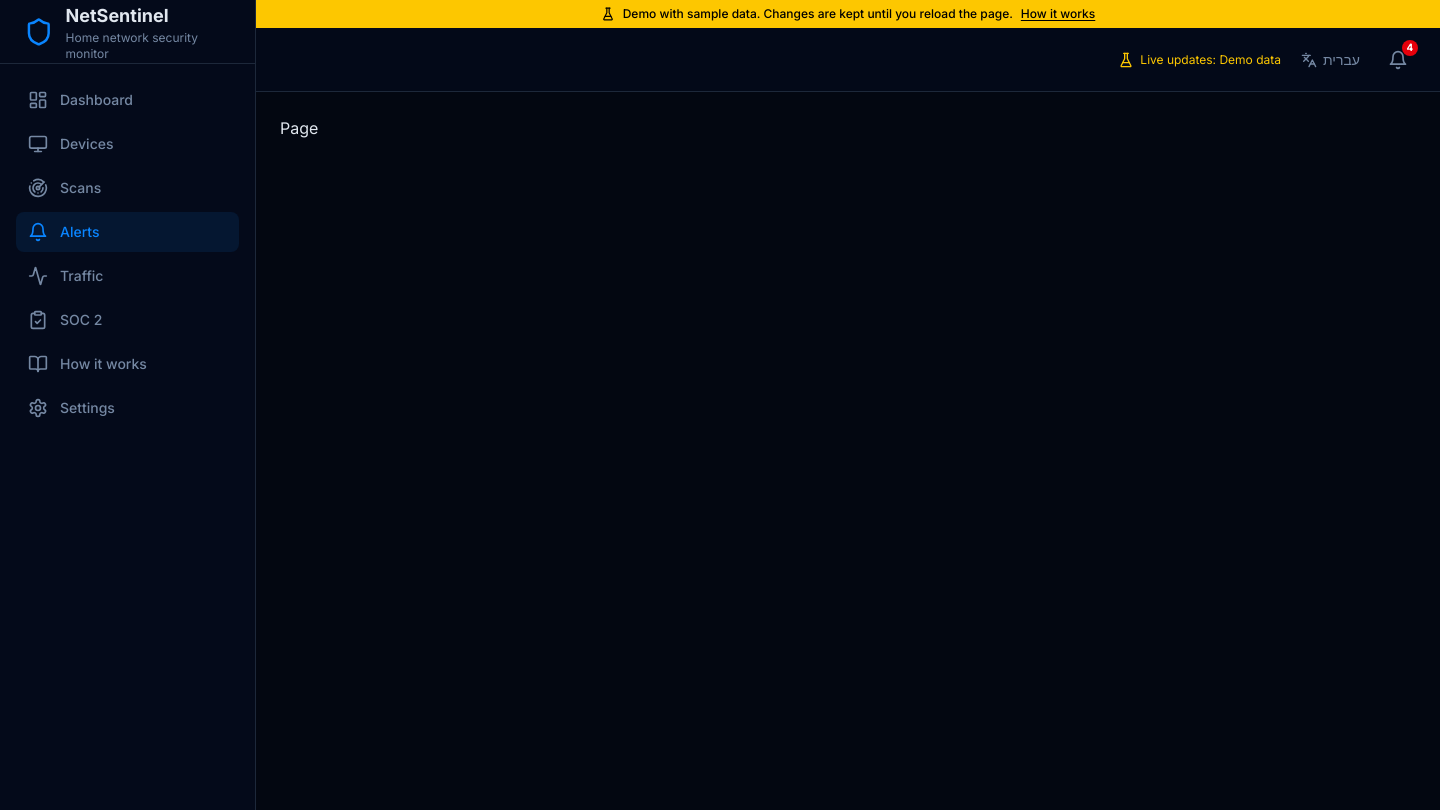
Test case: AppShell › language button switches to Hebrew
Click the button with aria-label "Switch to Hebrew" at (1330, 60), box [1293,42,1368,78]
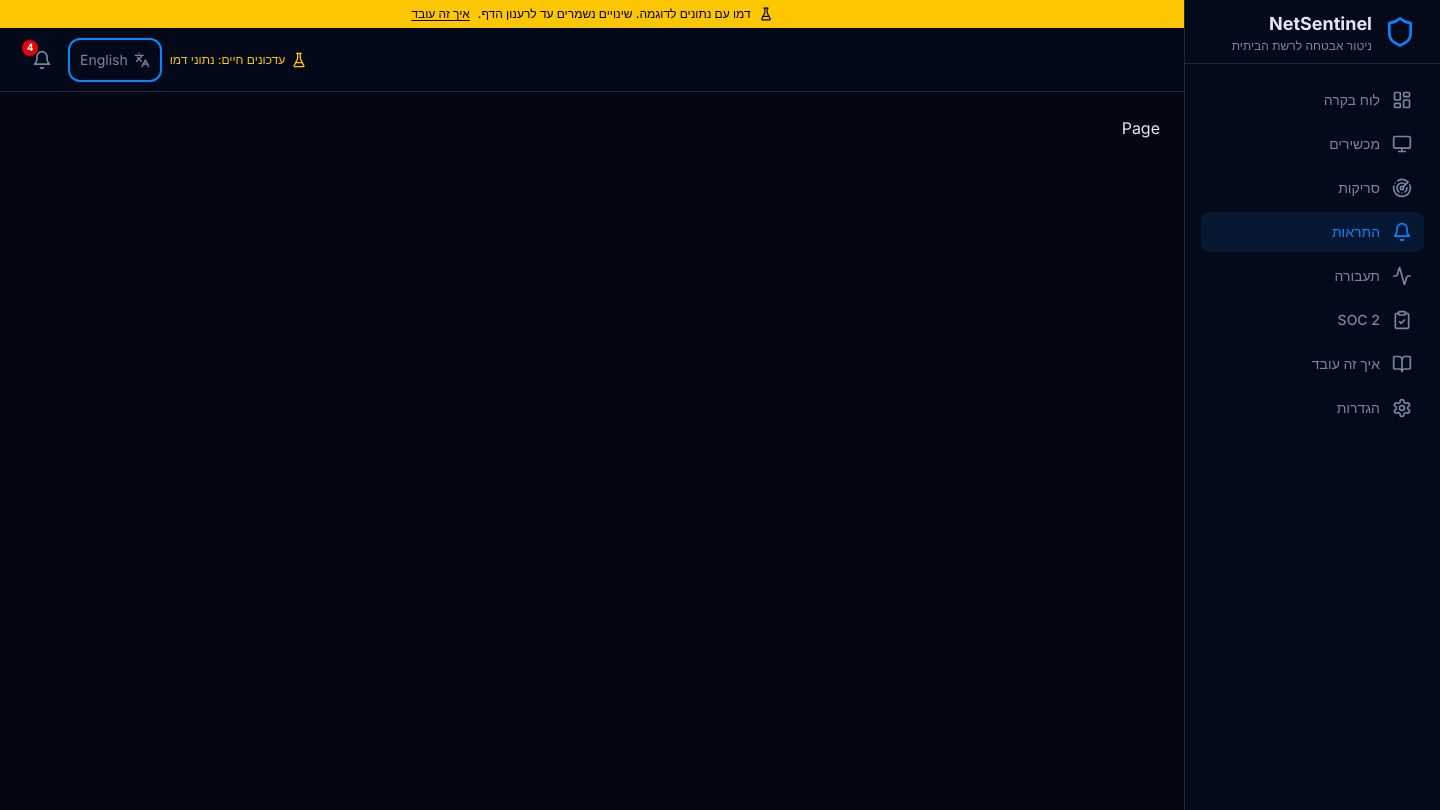
Expected: the link "התראות" is shown, [1201,212,1424,252]
